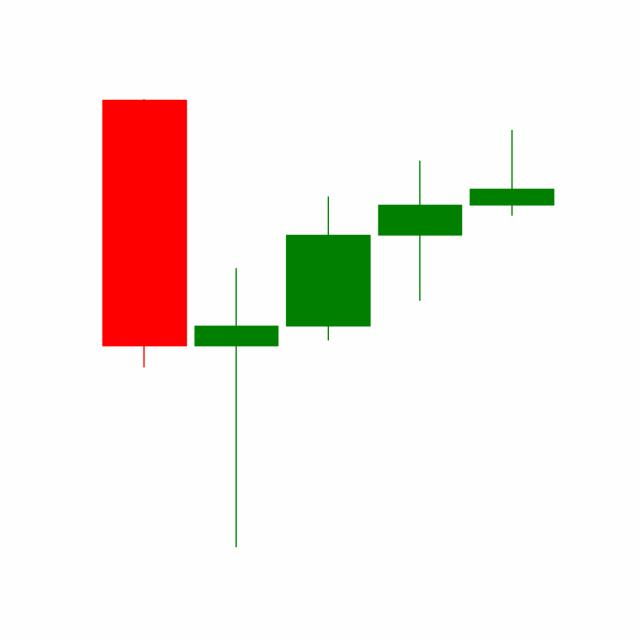Spinning Top: (373, 158, 467, 302)
